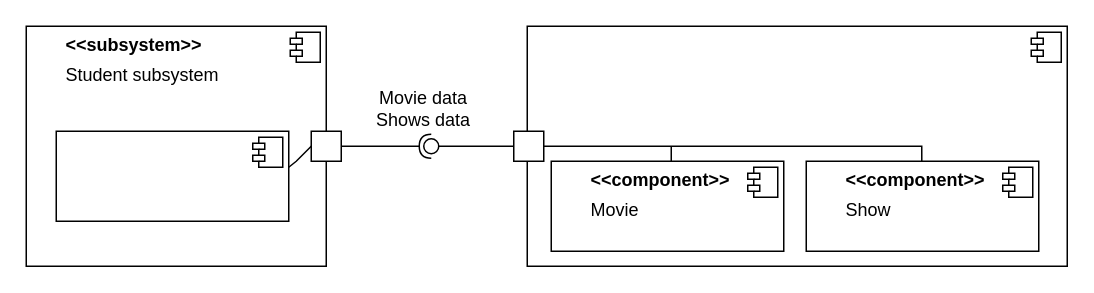
This 1094x293 diagram has some shape labels left out. Here are the shapes that lost their labels. From the top down, the box of each, then its label:
(526, 25, 1067, 266): <<subsystem>> Media subsystem
(55, 130, 289, 221): <<component>> Student
